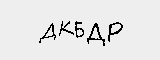Б: (74, 19, 87, 39)
Д: (37, 19, 57, 44), (86, 20, 104, 46)
К: (58, 19, 75, 37)
Р: (106, 19, 125, 44)
